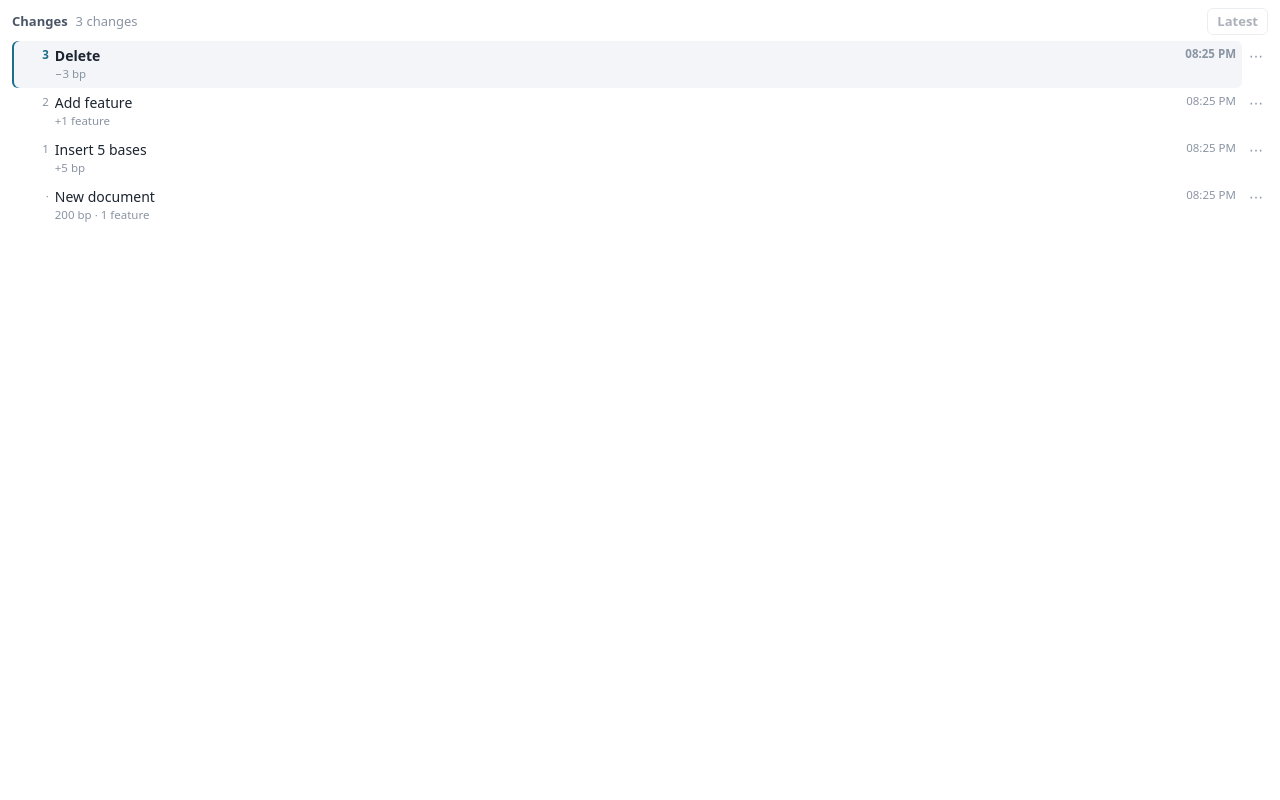
HistoryPanel: what a step changed (#4) › opens the review of that one step, and Close or Escape puts it away
Click the 3rd button "⋯".
click(1256, 150)  # box 1244,138 -> 1268,162
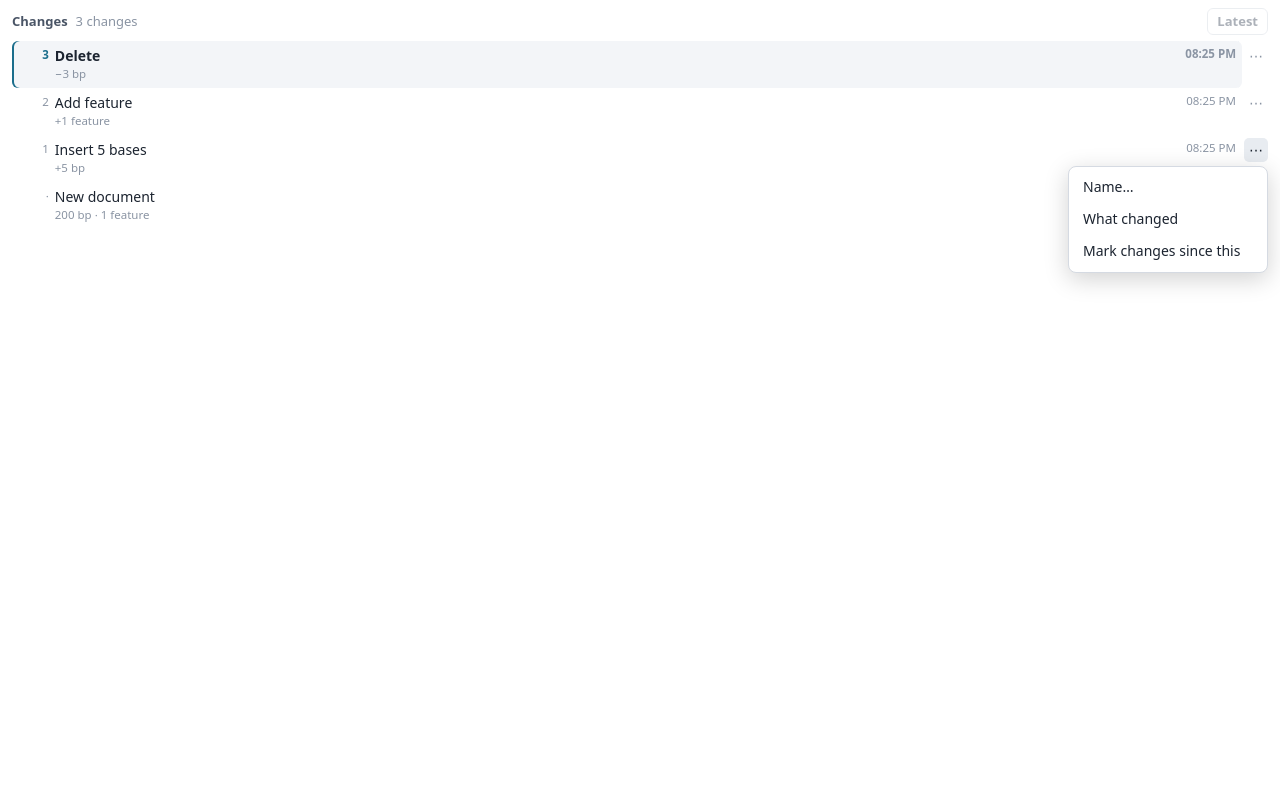
Click the menu item "What changed".
click(1168, 219)  # box 1073,203 -> 1263,235
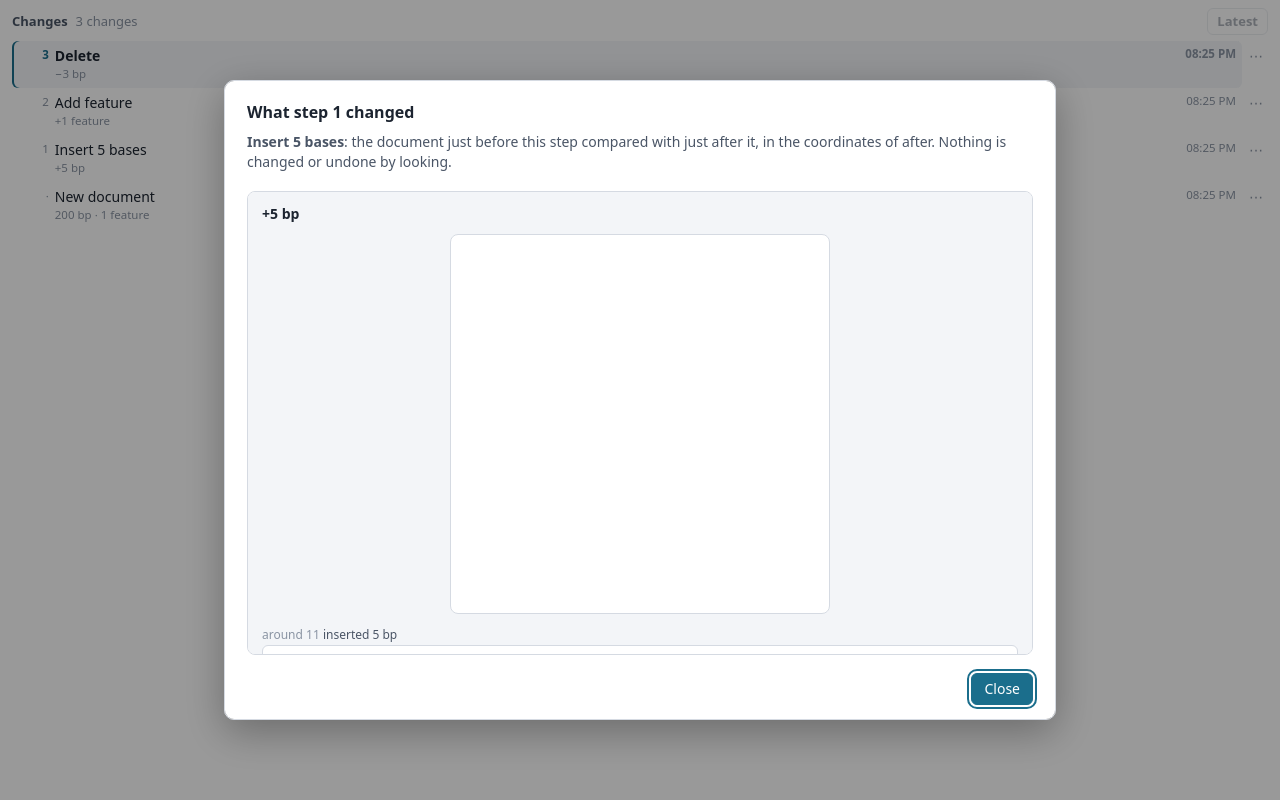
Result: the heading reads "What step 1 changed" at 247,101 -> 414,123
Result: the text with class "save-review__summary" reads "+5 bp" at 262,204 -> 299,223
Result: the element with class "diff-strip__label" reads "around 11 inserted 5 bp" at 262,626 -> 397,643
Click the button "Close".
click(1002, 689)  # box 972,673 -> 1033,705
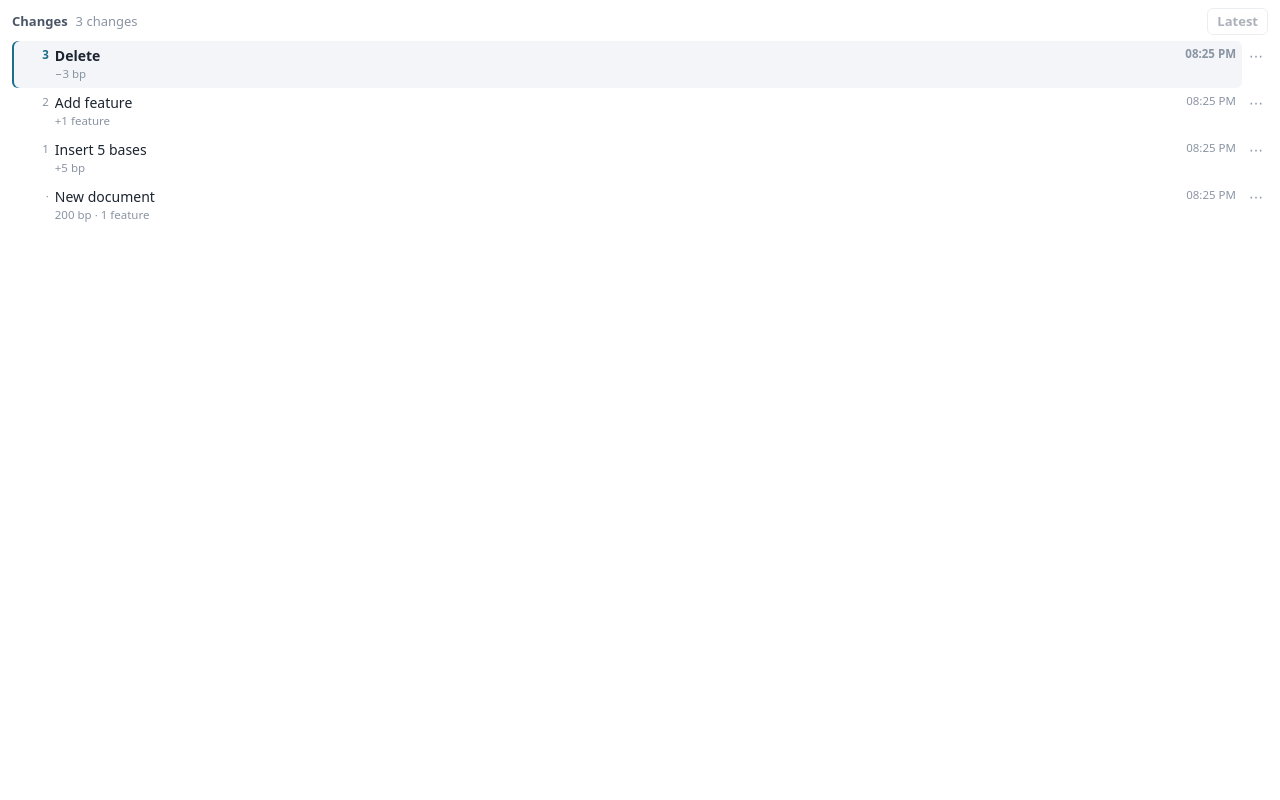
Result: the dialog is gone
Click the 2nd button "⋯".
click(1256, 103)  # box 1244,91 -> 1268,115
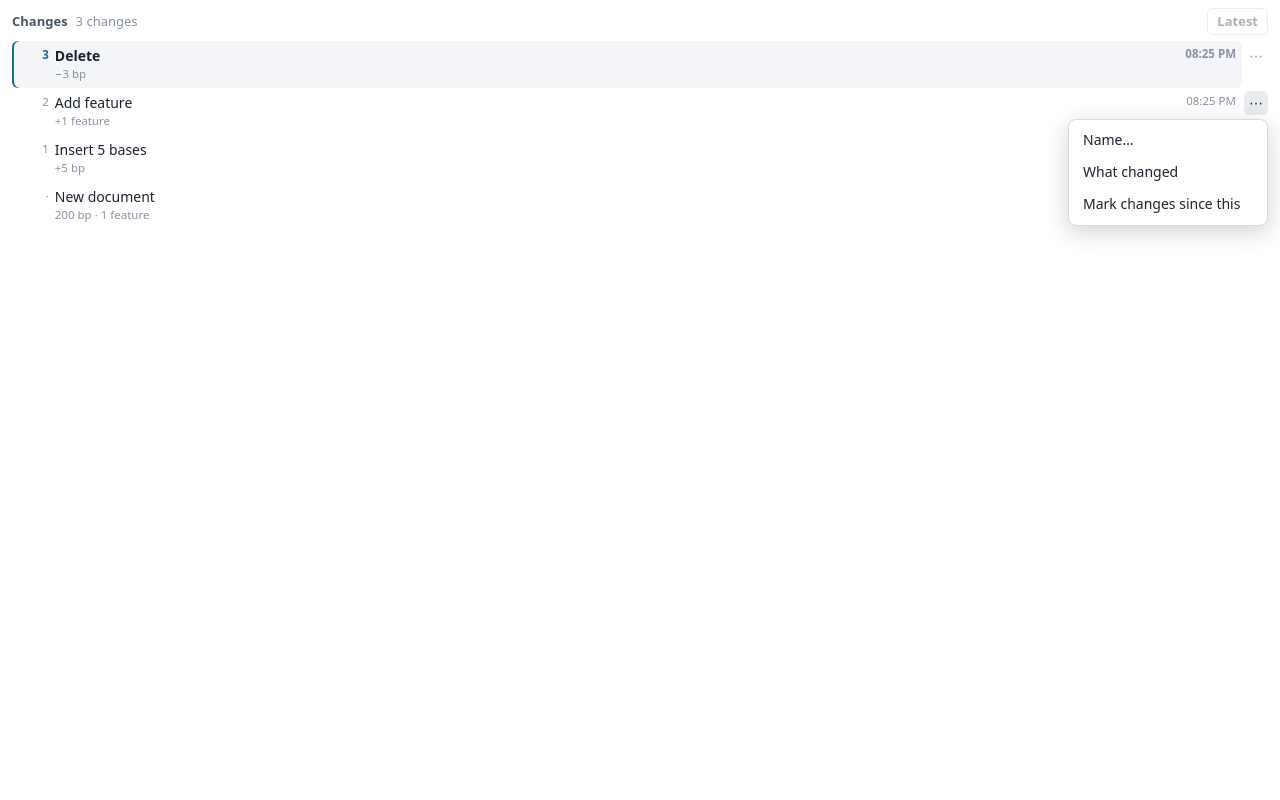
Click the menu item "What changed".
click(1168, 172)  # box 1073,156 -> 1263,188
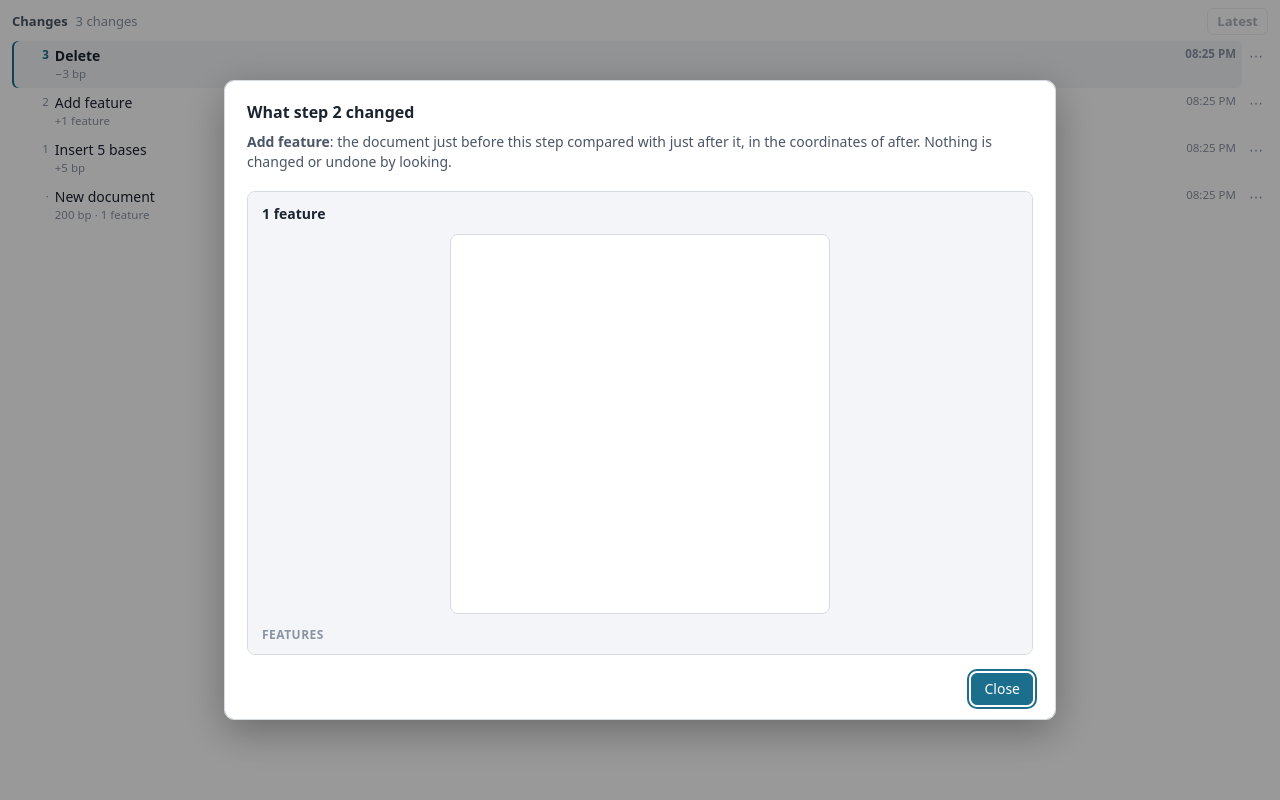
Press Escape
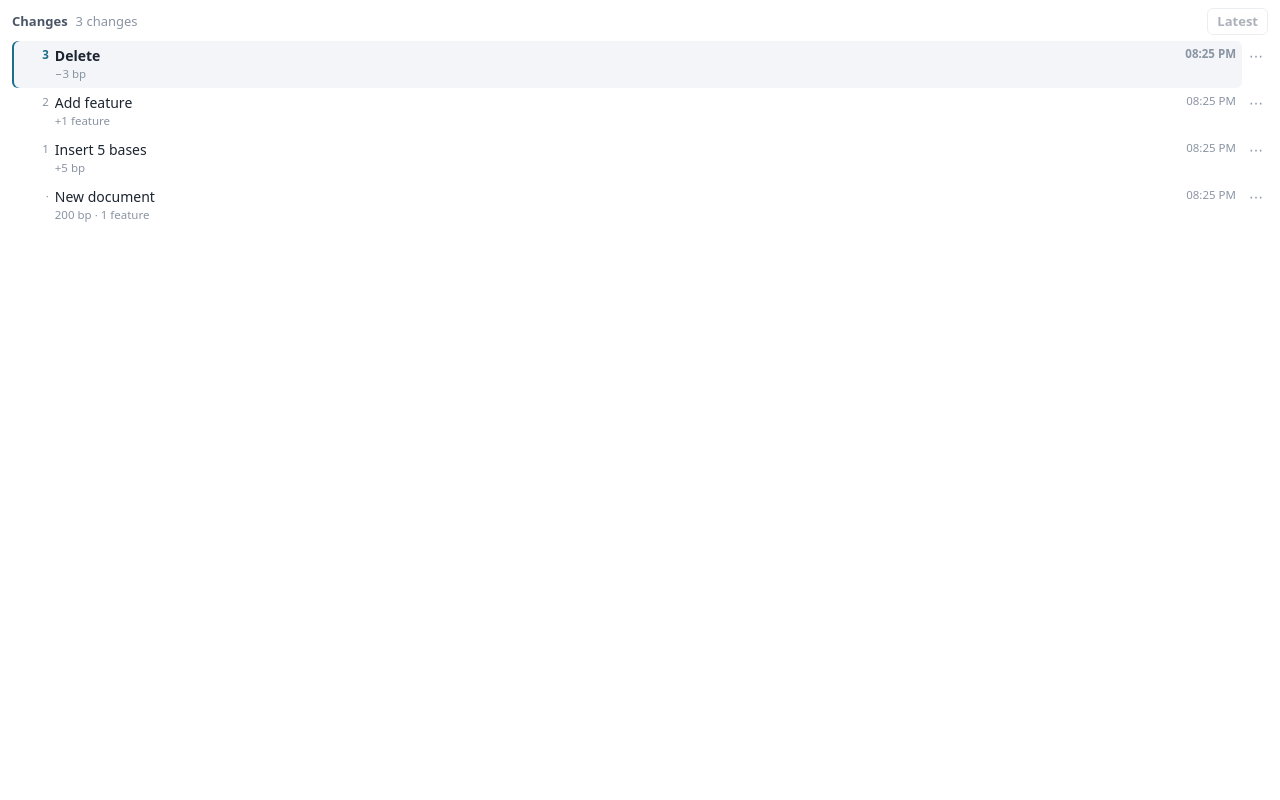
Result: the dialog is gone
